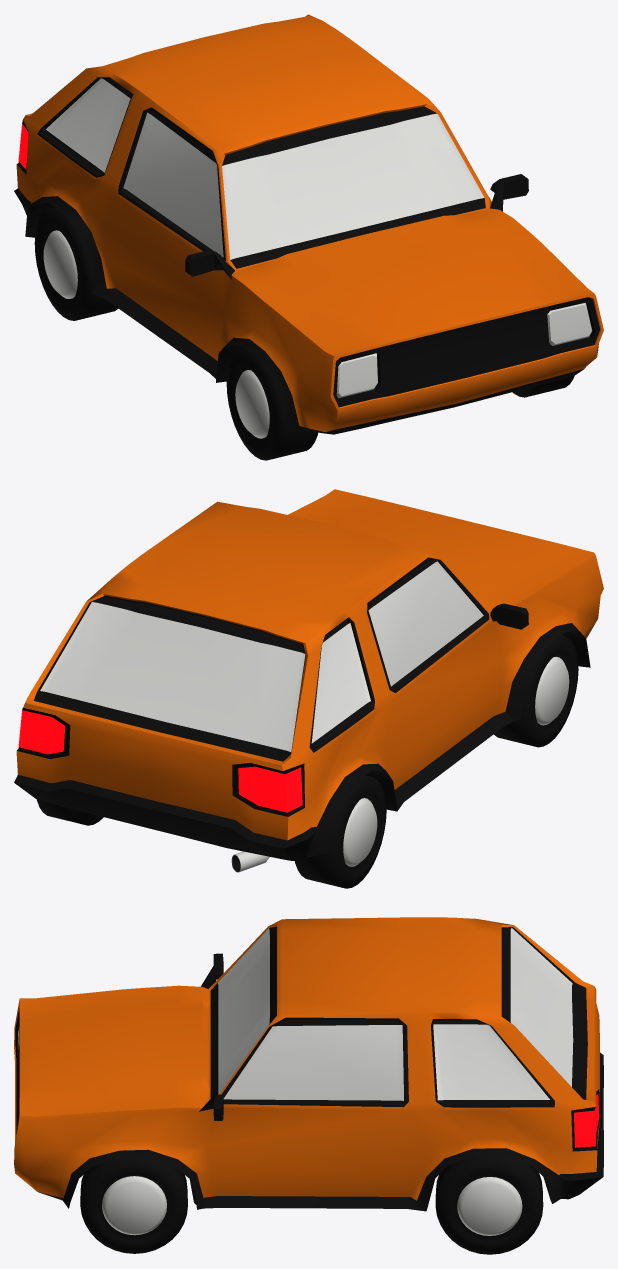
The model's file is gariparaba.fbx.
The picture shows the model from 3 angles, top to bottom: view 1: azimuth 30°, elevation 25°; view 2: azimuth 150°, elevation 25°; view 3: azimuth 270°, elevation 25°; orthographic projection. The views are drawn at different scales.
Visible parts, largest first — view 1: Cube.035, Cube.006, Cube.007; view 2: Cube.035, Cube.007, Cube.006, Cube.005; view 3: Cube.035, Cube.005, Cube.004.
Part boxes in pixels (x1,y1,x2,y2): Cube.035: [14, 14, 603, 434]; Cube.006: [226, 348, 317, 460]; Cube.007: [34, 207, 118, 320]; Cube.035: [14, 489, 603, 872]; Cube.007: [294, 775, 386, 888]; Cube.006: [494, 635, 578, 747]; Cube.005: [36, 799, 103, 825]; Cube.035: [14, 917, 603, 1211]; Cube.005: [435, 1156, 543, 1254]; Cube.004: [80, 1158, 187, 1253].
Size of the model in its own units: 621 by 429 by 1008.
